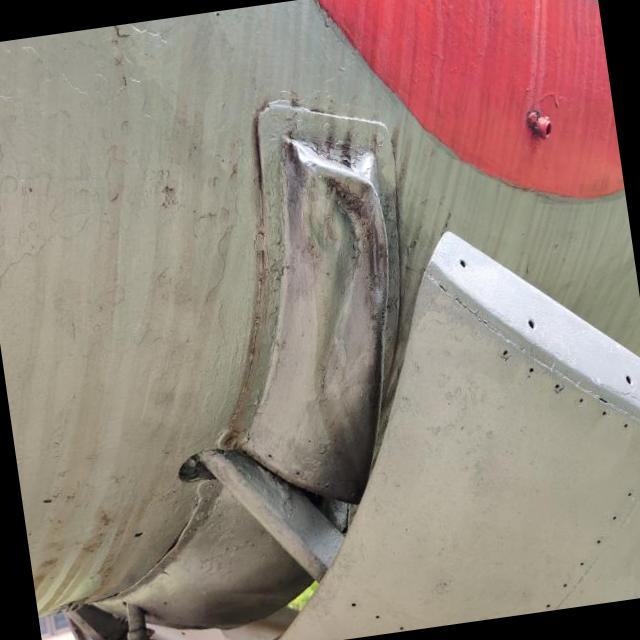Dent: (232, 100, 400, 503)
